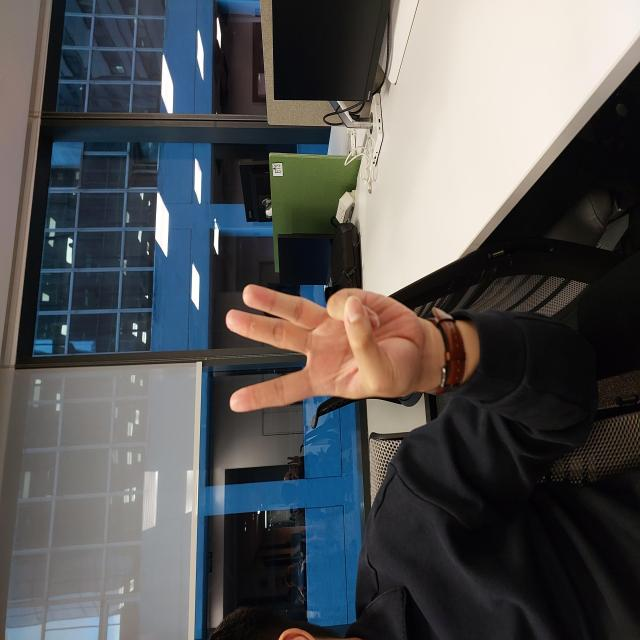W: (228, 225, 356, 415)
